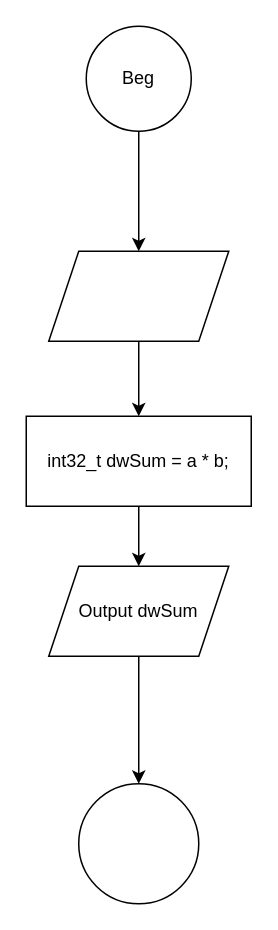
Image size: 278x930. Some labels were removed from this diagram. The shapes that lost their labels are listed below. From the top down, each one's centre as x and y in pixels, then its label:
At point 138,295: "Input a Input b".
At point 138,843: "End".
